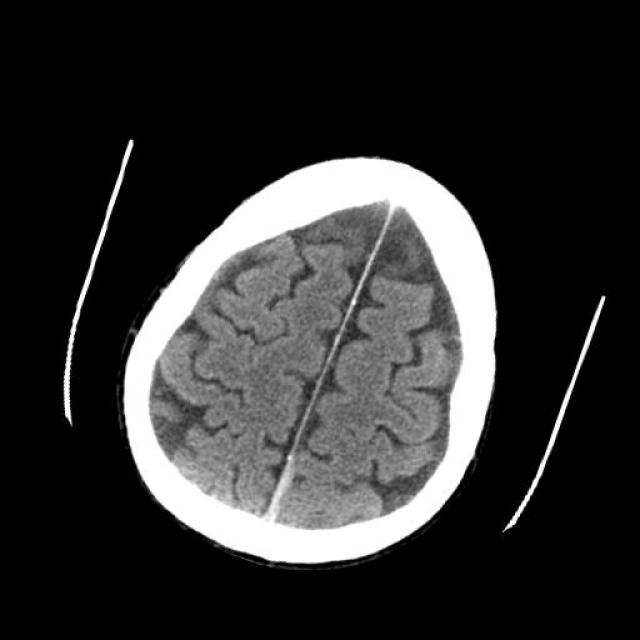Subdural: (224, 404, 330, 554)
